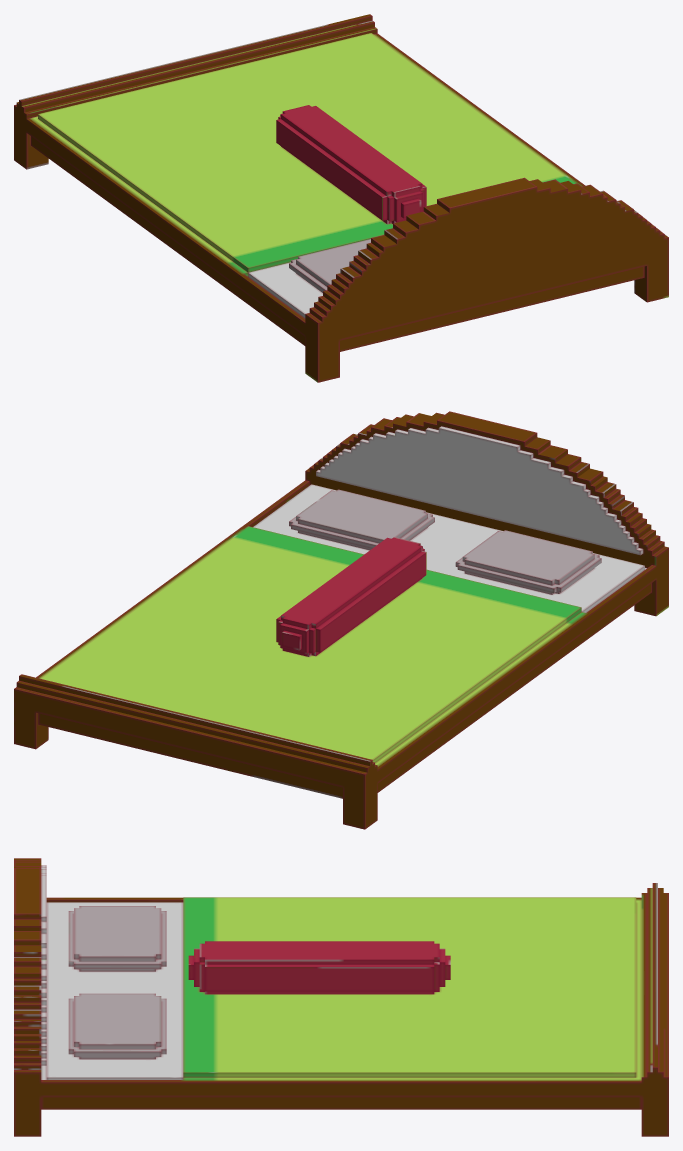
Rendered from kasur_double_1.obj.
The picture shows the model from 3 angles, top to bottom: view 1: azimuth 30°, elevation 25°; view 2: azimuth 150°, elevation 25°; view 3: azimuth 270°, elevation 25°; orthographic projection. The views are drawn at different scales.
Parts seen in each view (by area): view 1: kasur_double_1; view 2: kasur_double_1; view 3: kasur_double_1.
Boxes of the visible parts, x1=… form: kasur_double_1: x1=14, y1=14, x2=668, y2=382; kasur_double_1: x1=14, y1=411, x2=668, y2=829; kasur_double_1: x1=14, y1=858, x2=668, y2=1136.
Bounding box in the file's own units: 8 × 3.1 × 12.
1 material, 1 textured.
